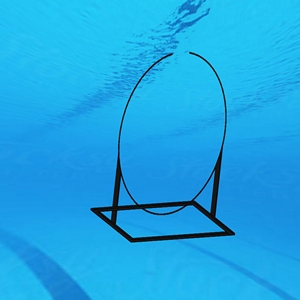circle: (87, 50, 238, 247)
